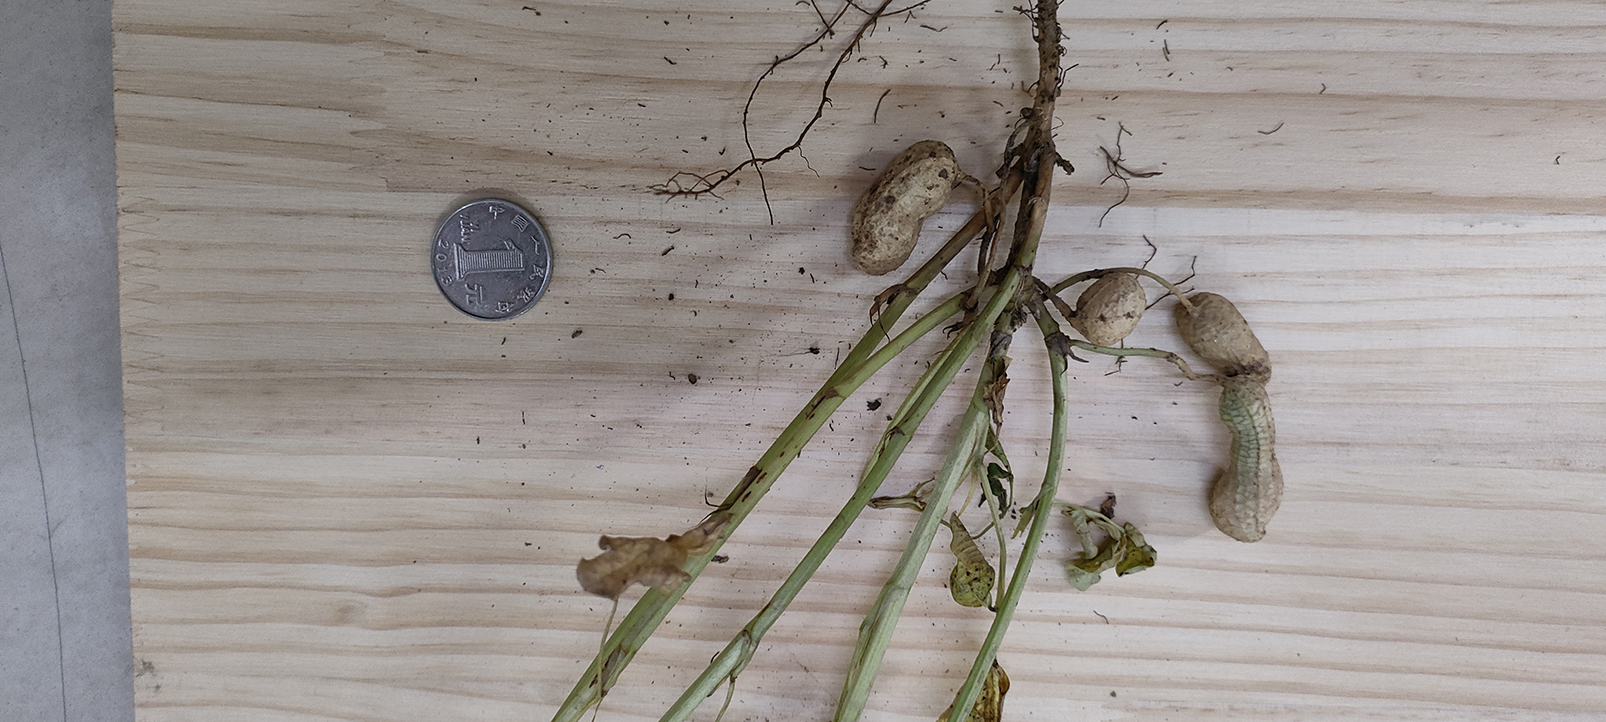h: (851, 140, 960, 277), (1209, 380, 1285, 542), (1177, 291, 1271, 375), (1073, 269, 1147, 346)
